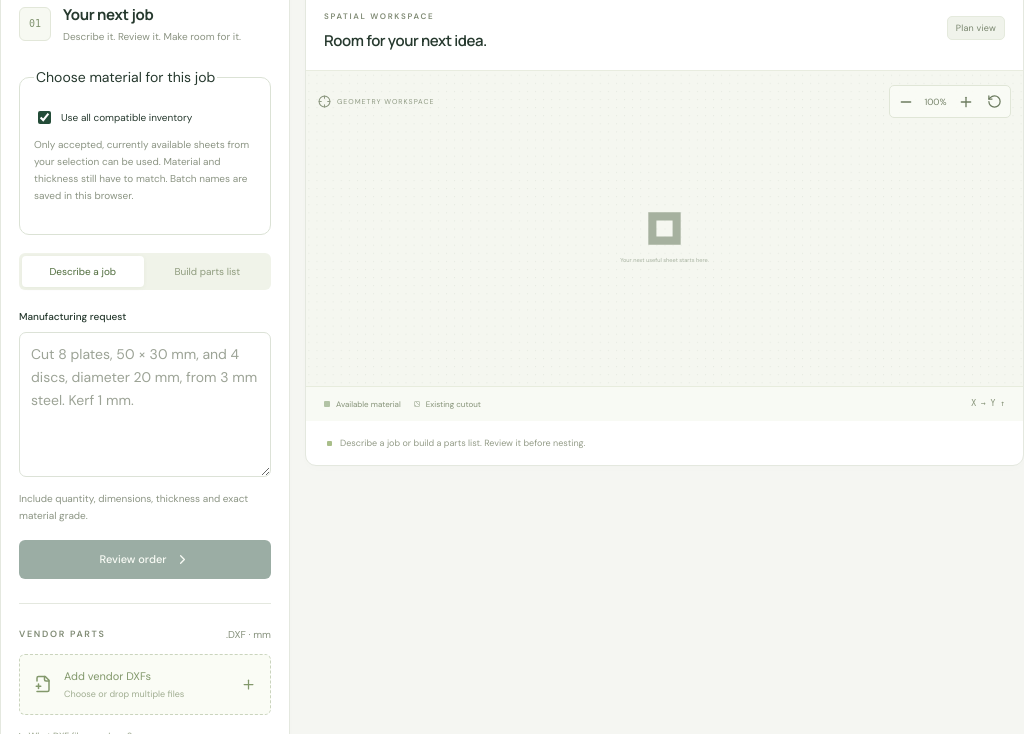
order workflow › records an operator-confirmed cut using the reviewed plan without a second execution
In the text box labelled "Manufacturing request": (145, 404) x1=19 y1=332 x2=271 y2=477, type "Make 2 discs diameter 20mm in 3mm ss304, kerf 1mm"
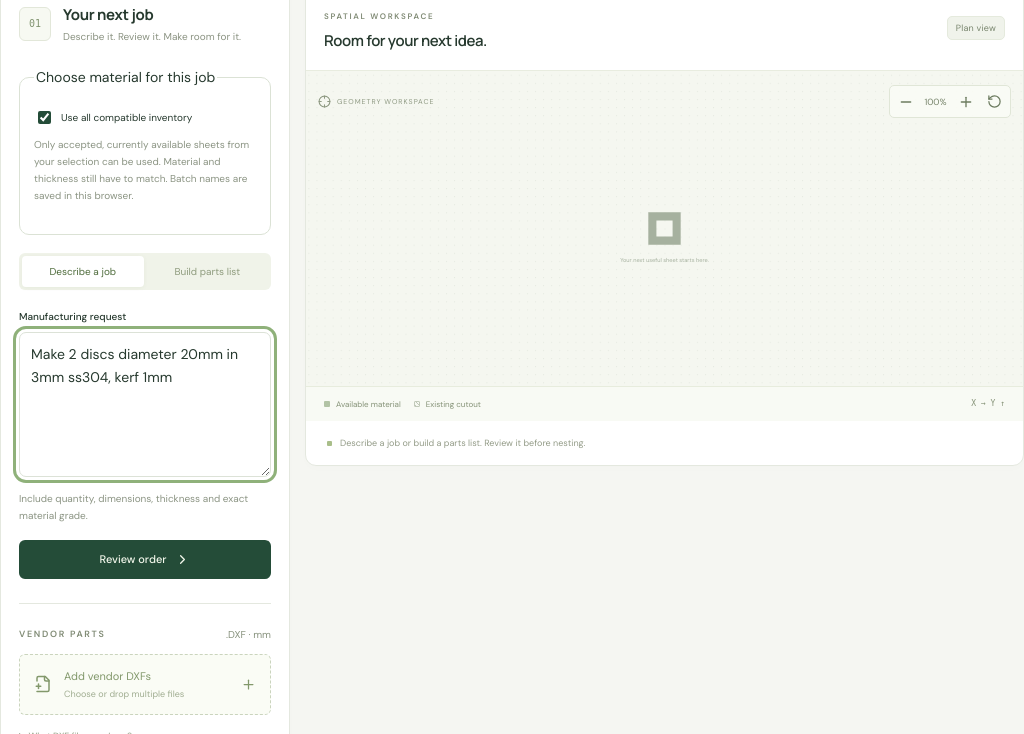
Click the button "Review order": (145, 559) x1=19 y1=540 x2=271 y2=579
(page scrolled)
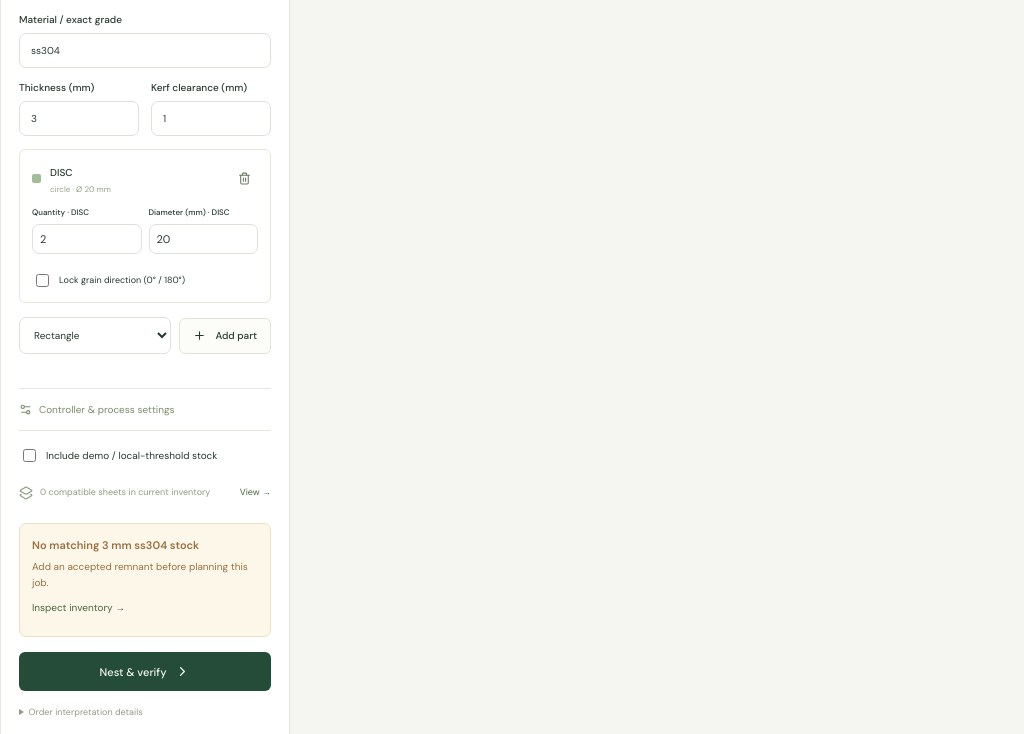
expect the number field labelled "Quantity · DISC" is shown: met, box x1=32 y1=224 x2=142 y2=254
Click the button "Nest & verify": (145, 672) x1=19 y1=652 x2=271 y2=691
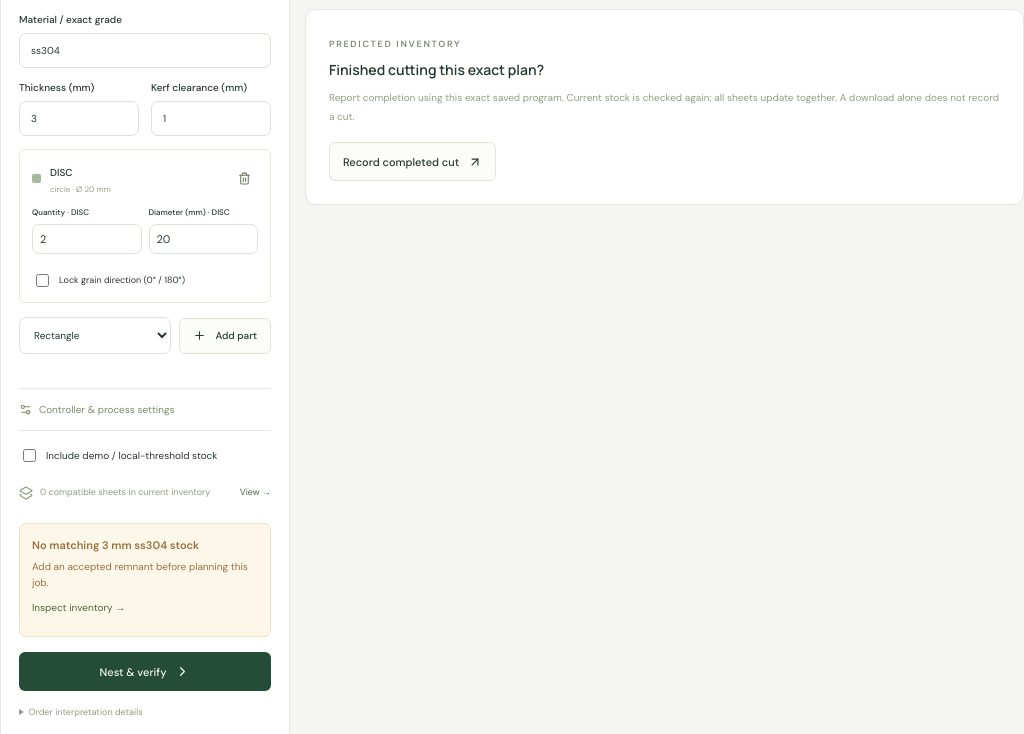
Click the button "Record completed cut": (413, 162) x1=329 y1=142 x2=496 y2=181
(page scrolled)
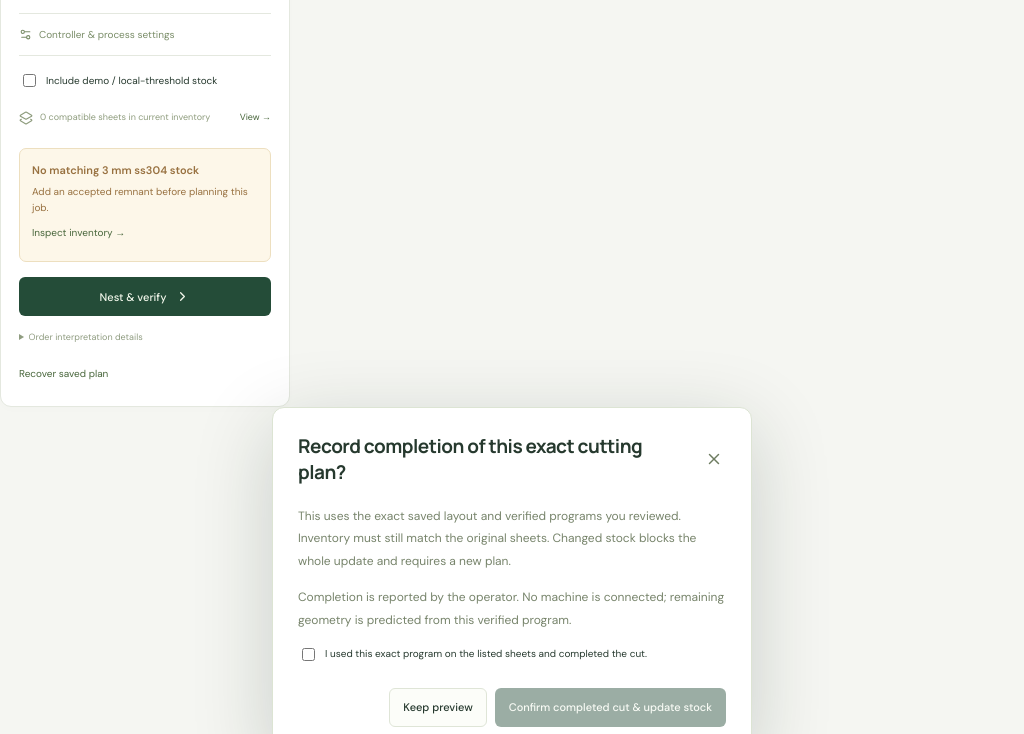
expect the button "Confirm completed cut & update stock" is disabled: met, box x1=495 y1=688 x2=726 y2=726
Click the checkbox labelled "I used this exact program": (308, 654) x1=302 y1=648 x2=315 y2=660
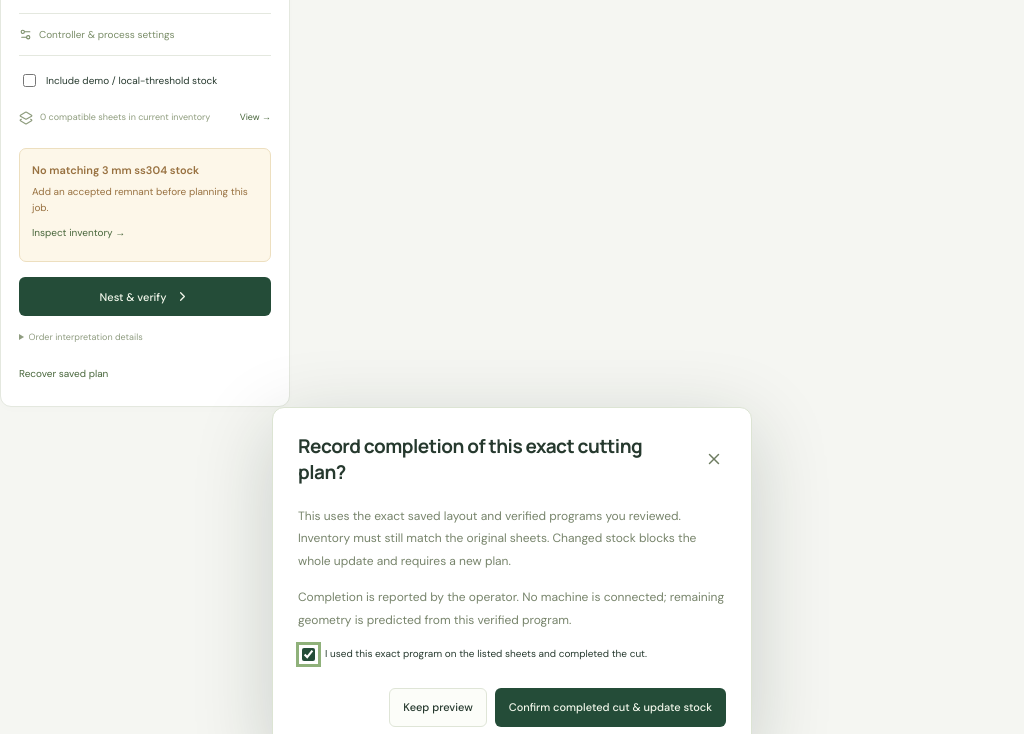
Click the button "Confirm completed cut & update stock": (610, 707) x1=495 y1=688 x2=726 y2=726
(page scrolled)
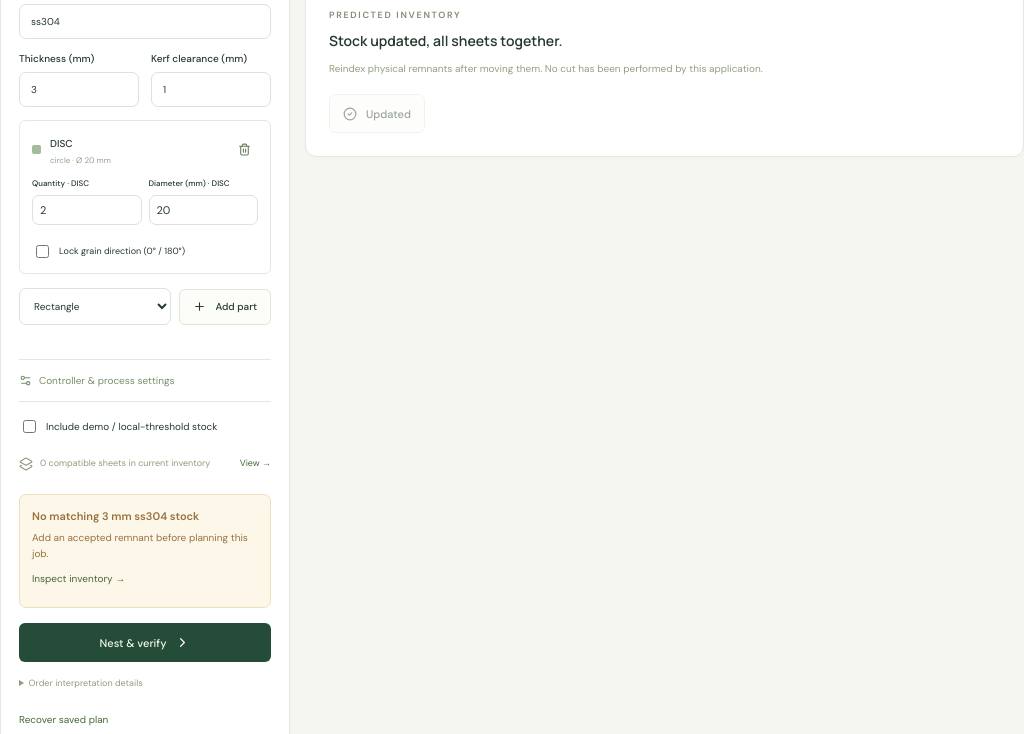
expect the heading "Stock updated, all sheets together." is shown: met, box x1=329 y1=31 x2=562 y2=50
